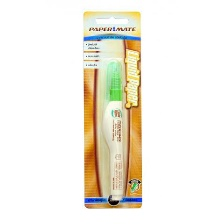book: (80, 8, 144, 210)
correction_fluid: (99, 57, 125, 204)
